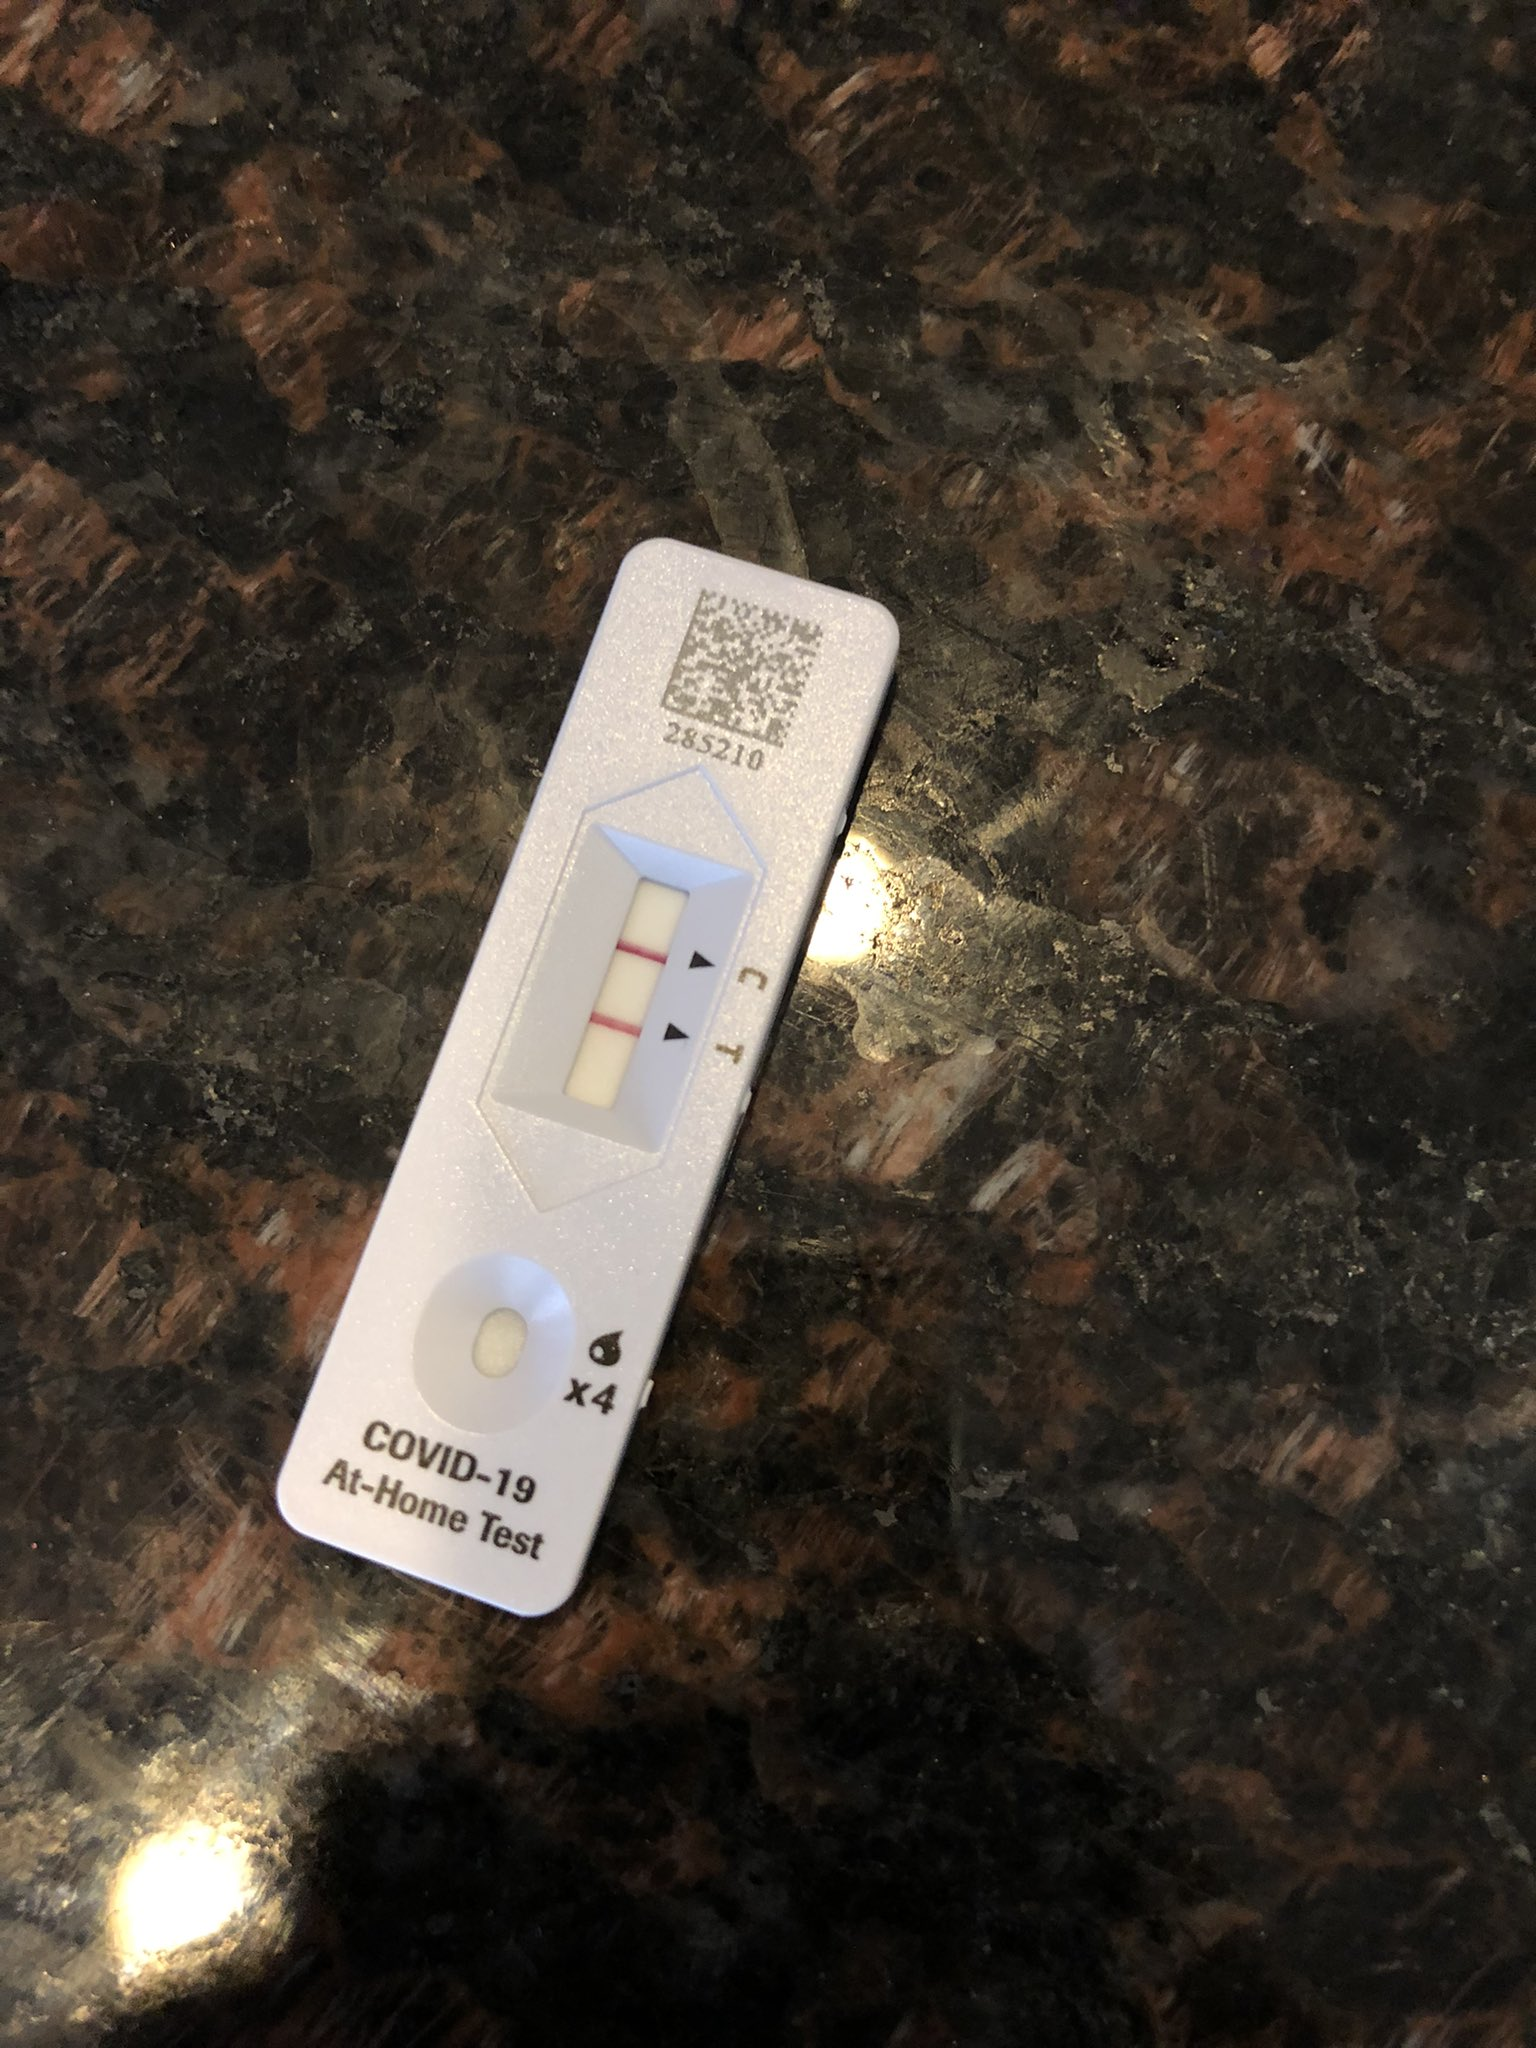positive: (541, 834, 687, 1156)
